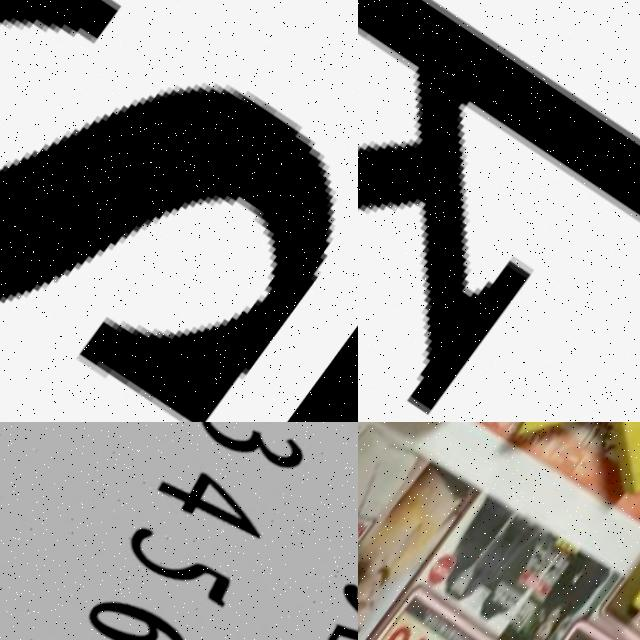2: (192, 422, 358, 479)
3: (174, 422, 338, 526)
4: (128, 422, 305, 595)
5: (86, 480, 275, 640)
6: (49, 544, 238, 640)
K: (358, 0, 640, 422)
S: (0, 0, 358, 422)
X: (513, 422, 640, 519)
